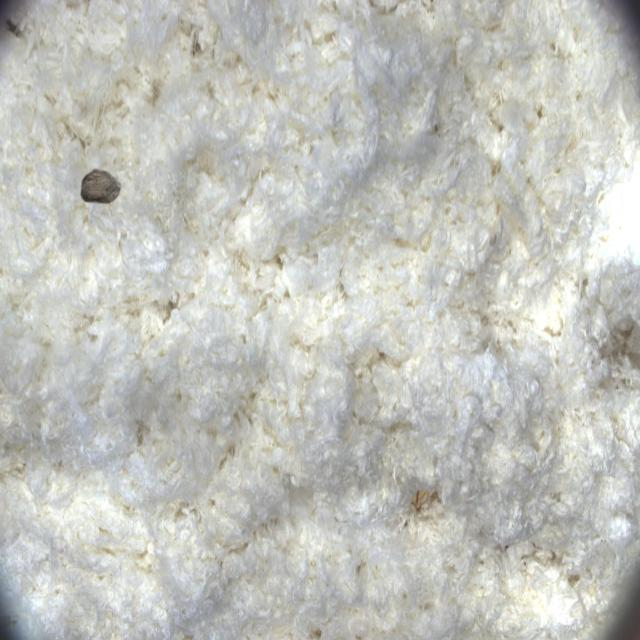dust: (60, 112, 153, 242)
